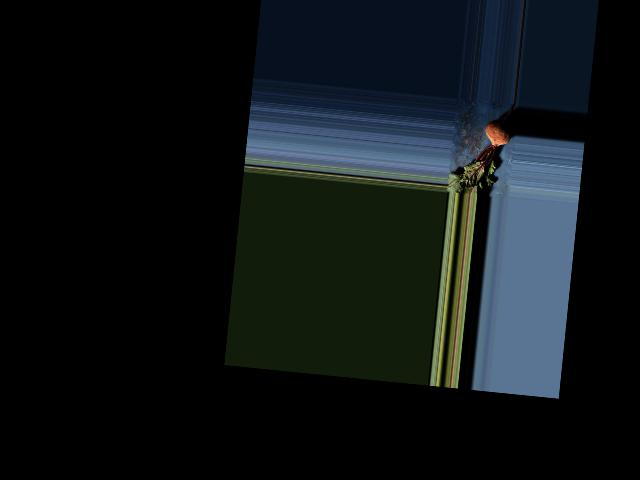beet: (446, 97, 515, 199)
